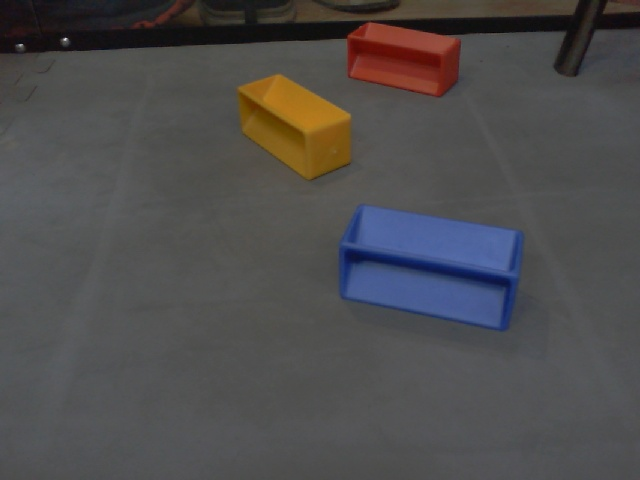BlueSample: (335, 201, 525, 333)
RedSample: (345, 21, 463, 97)
YellowSample: (235, 71, 355, 184)
